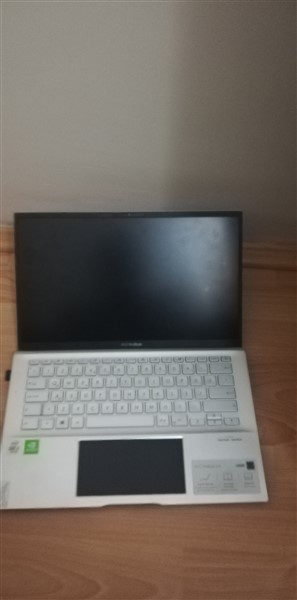laptop: (4, 205, 273, 515)
